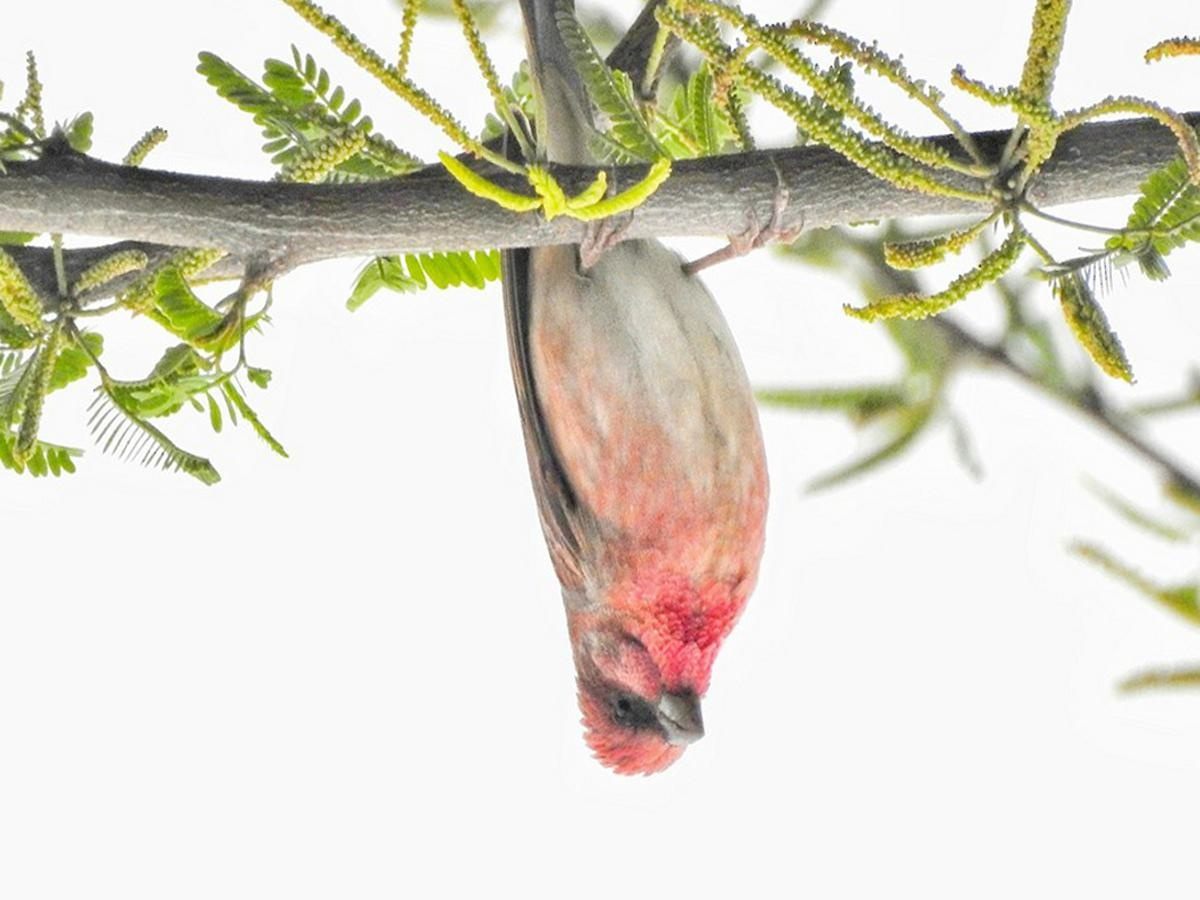rosefinch: (509, 185, 767, 792)
